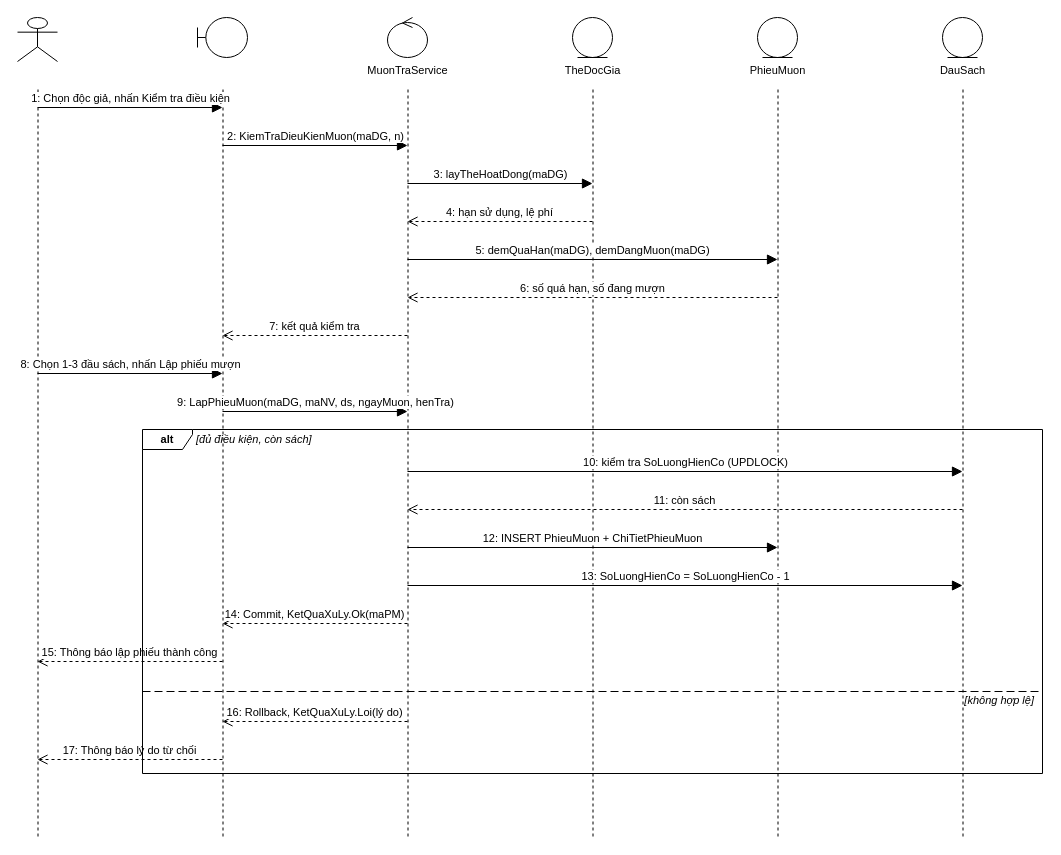
Image size: 1061x855. Some labels were removed from this diagram. The shapes that lost their labels are listed below. From the top down, each one's box as (x1, y1, x2, y2) in pixels, then its label:
(16, 16, 58, 62): Thủ thư
(196, 16, 248, 58): FrmMuonTra
